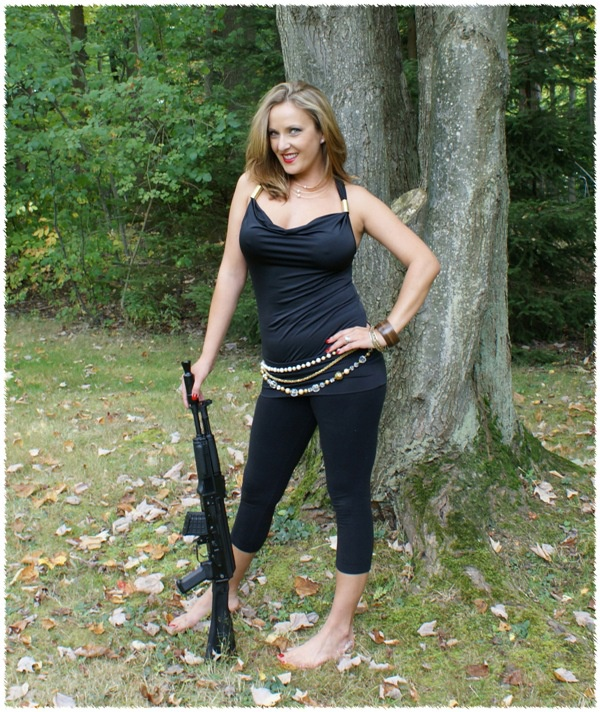ak47: (179, 362, 237, 659)
